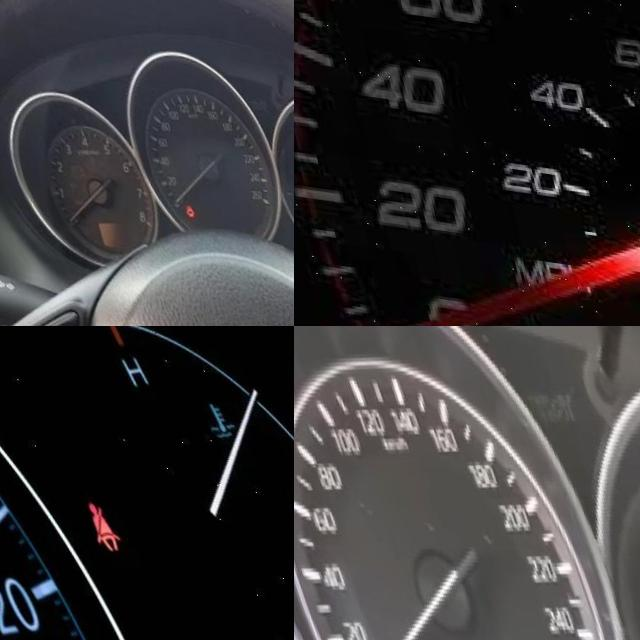Seat Belt: (71, 491, 113, 546)
